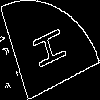H: (24, 24, 68, 75)
